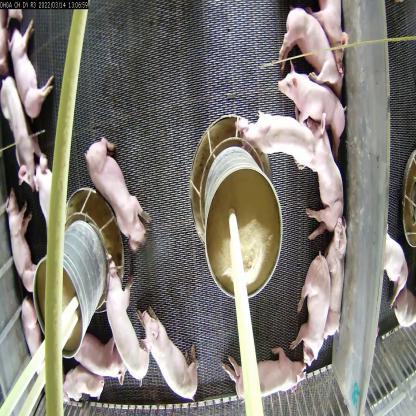Pig: (80, 128, 147, 275), (247, 92, 326, 203), (274, 67, 356, 170), (289, 99, 346, 246), (314, 197, 356, 348), (100, 255, 148, 383), (144, 297, 196, 410), (294, 232, 330, 377), (286, 9, 342, 102), (0, 54, 37, 194), (2, 192, 48, 303), (228, 343, 309, 402), (13, 24, 54, 122), (68, 336, 122, 390), (32, 154, 54, 224), (320, 7, 346, 64), (62, 374, 103, 409)
